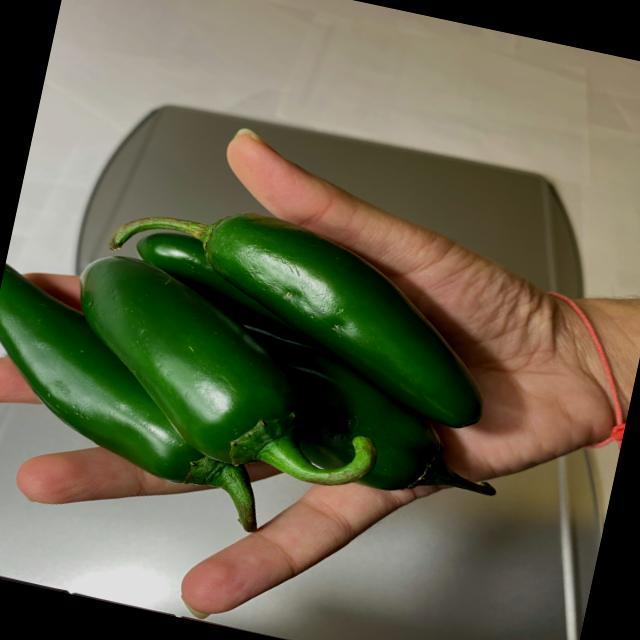chilli: (0, 156, 546, 576)
